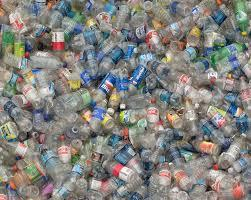Plastic bottle: (0, 1, 251, 200)
